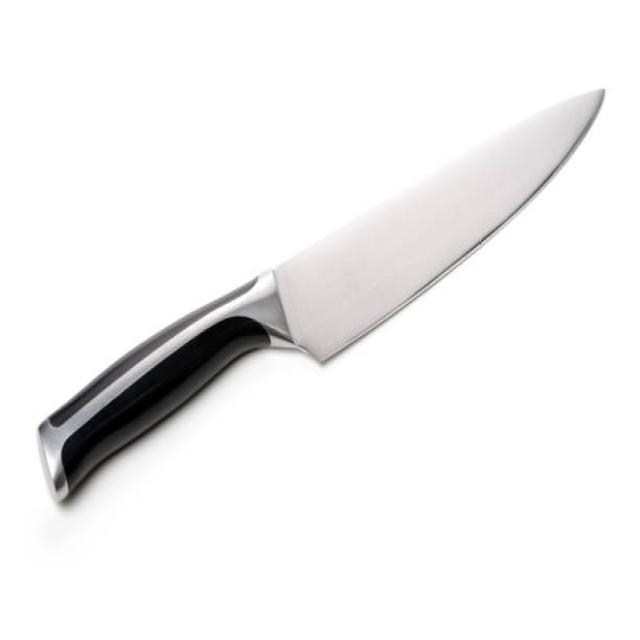knife: (1, 79, 614, 518)
